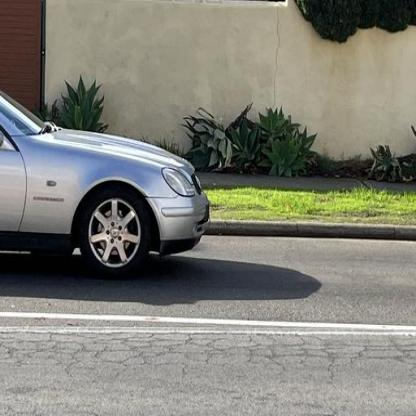Tire: (79, 187, 152, 280)
